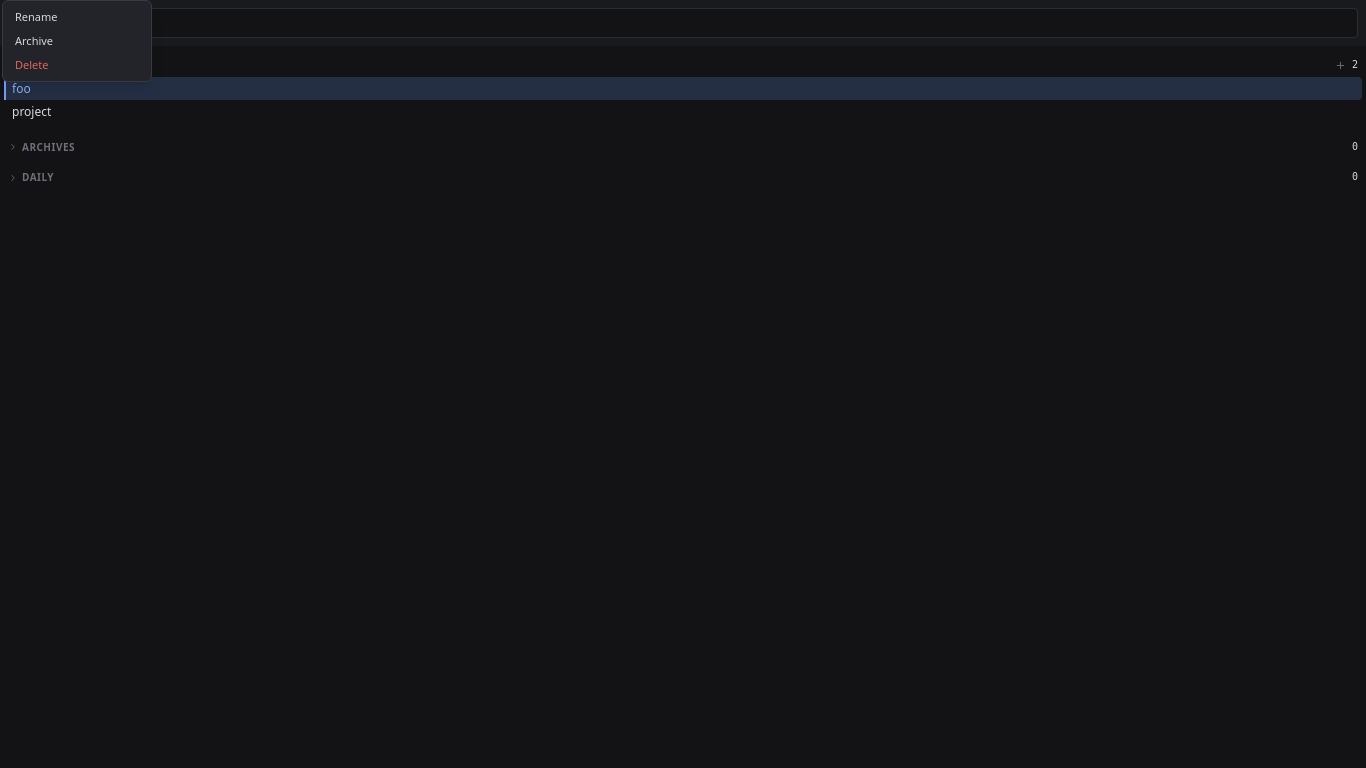
Scenario: RenameNoteDialog › a failed flush aborts the rename and keeps the local edits
Click the menu item "Rename": (36, 16) [15,9,58,24]
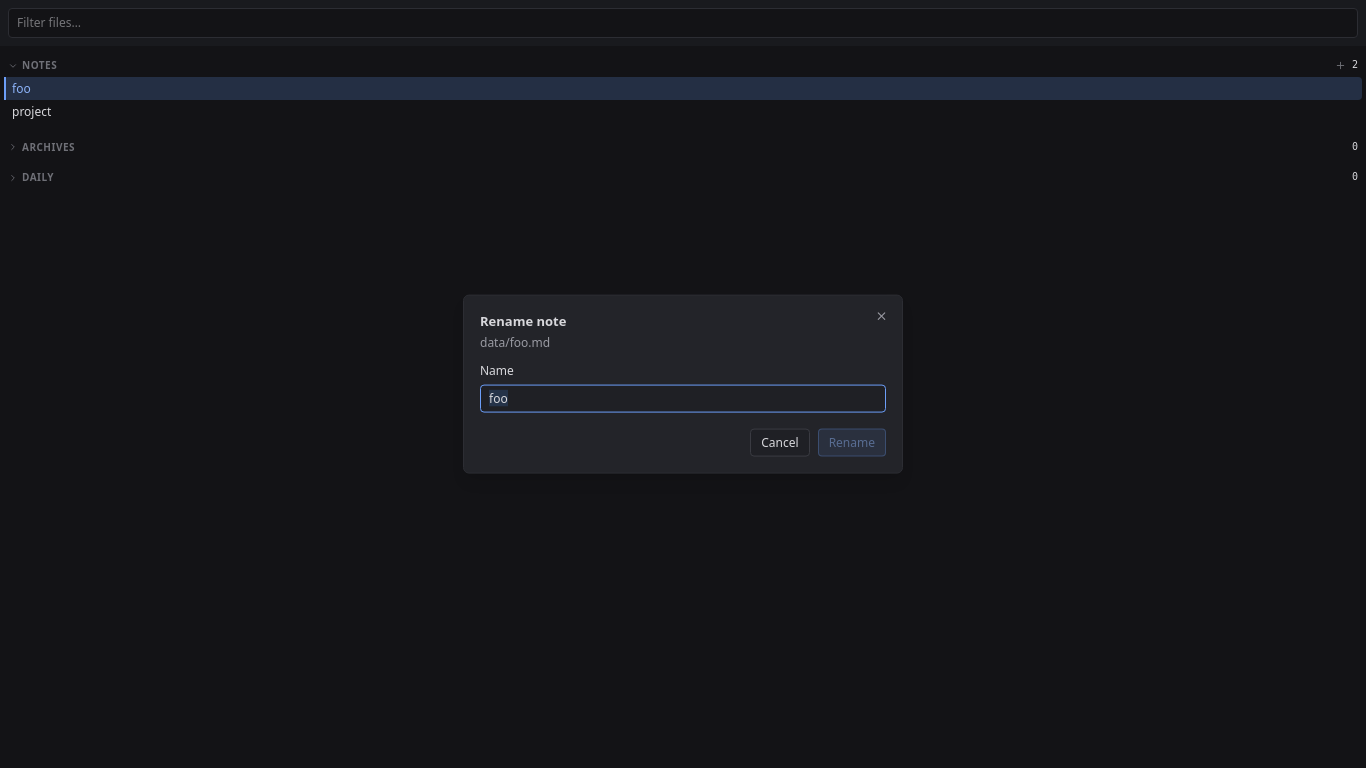
Expected: the field with test id "rename-note-name" is shown
Replace the text in the field with test id "rename-note-name" with "bar": (683, 398) [480,384,886,412]
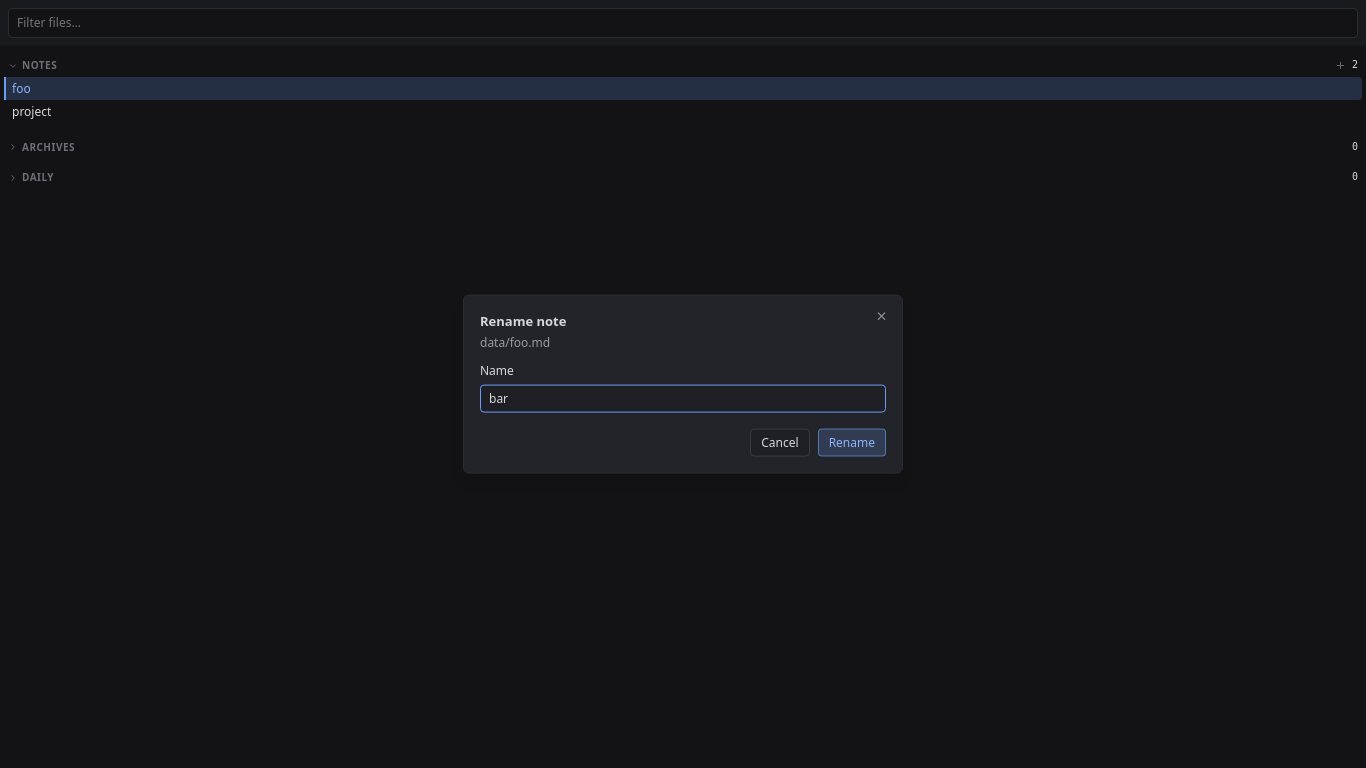
Click the button with test id "rename-note-submit": (852, 442) [818,428,886,456]
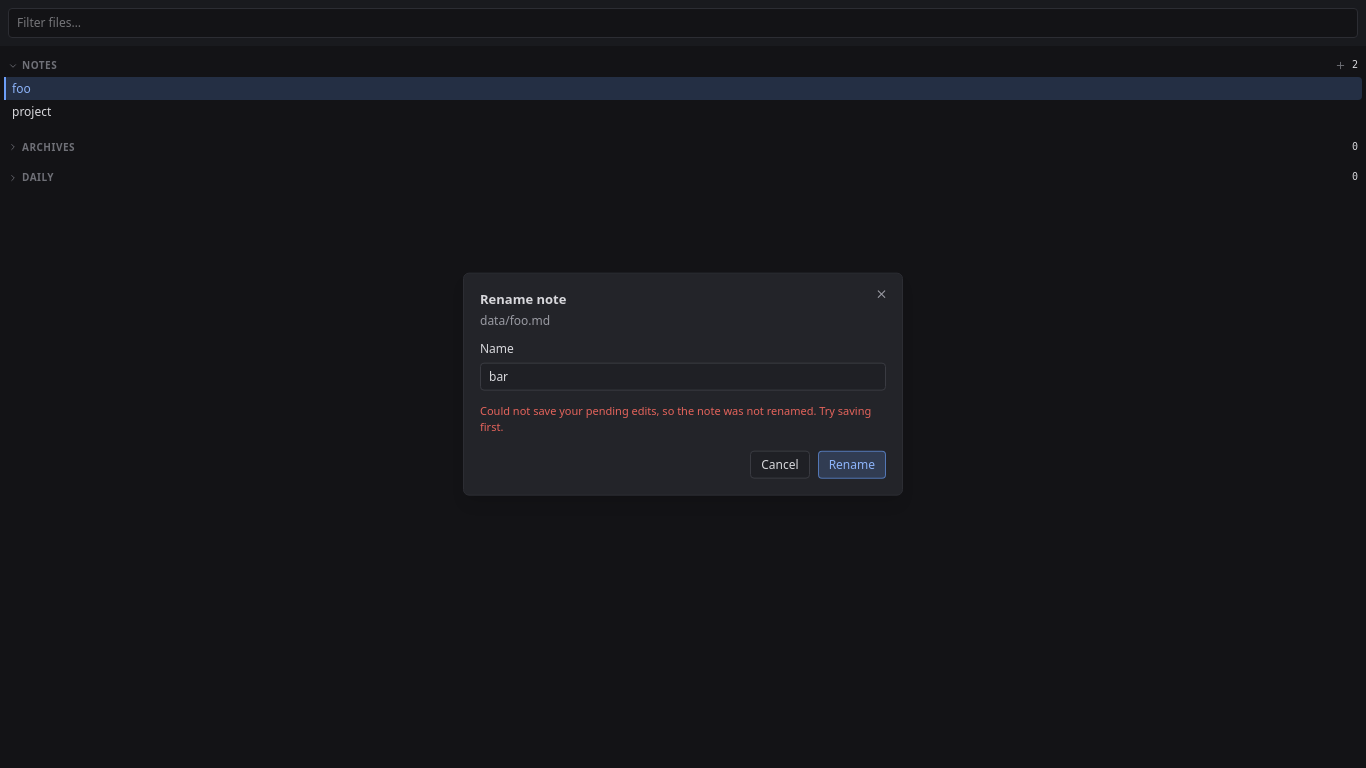
Expected: the text "data/foo.md" is shown, [480,312,550,328]
Expected: the message with test id "dialog-error" is shown, [480,402,886,434]
